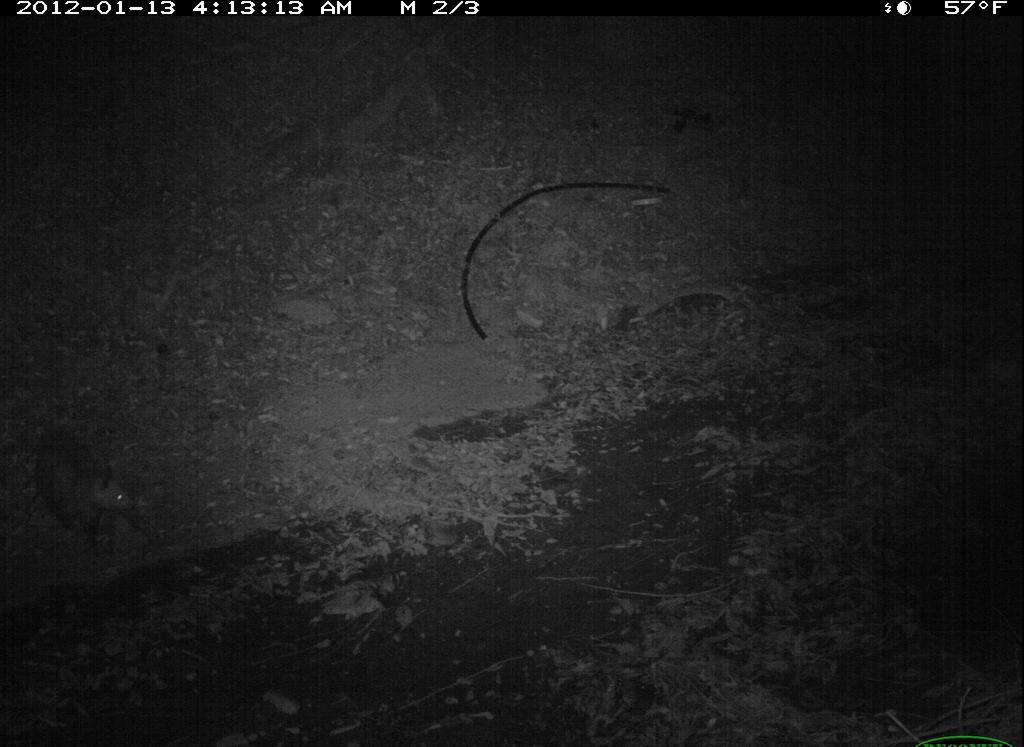opossum: (17, 423, 148, 555)
